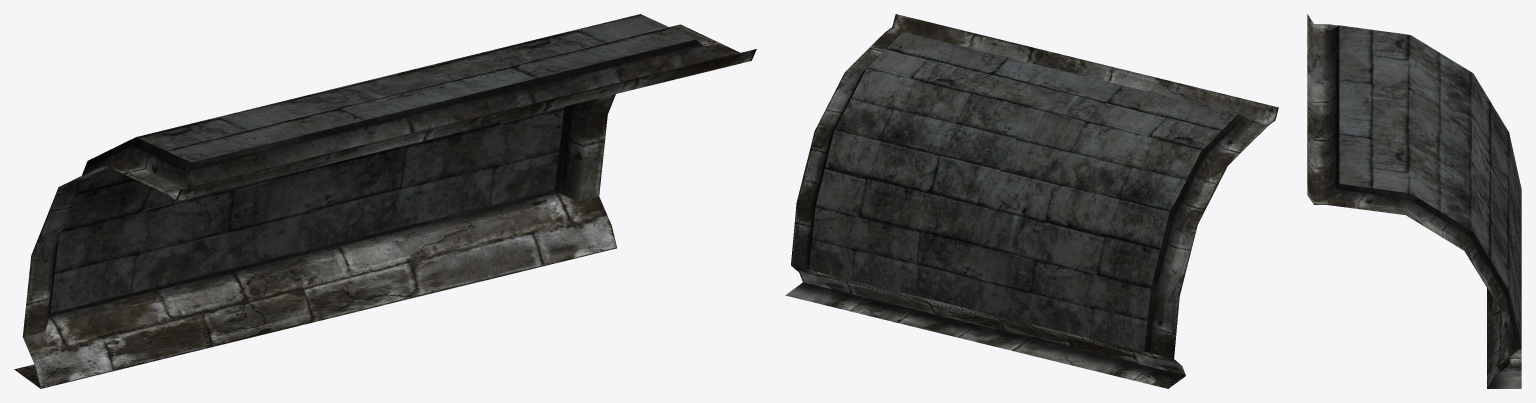
File: ceiling_concave_alt.dae
The picture shows the model from 3 angles, left to right: view 1: azimuth 30°, elevation 25°; view 2: azimuth 150°, elevation 25°; view 3: azimuth 270°, elevation 25°; orthographic projection. The views are drawn at different scales.
Visible parts, largest first — view 1: pCube1; view 2: pCube1; view 3: pCube1.
Boxes of the visible parts, box(x1,y1,x2,y2) form: pCube1: box(14, 14, 756, 388); pCube1: box(785, 14, 1278, 388); pCube1: box(1307, 14, 1521, 388).
Size of the model in its own units: 4 by 2 by 2.
